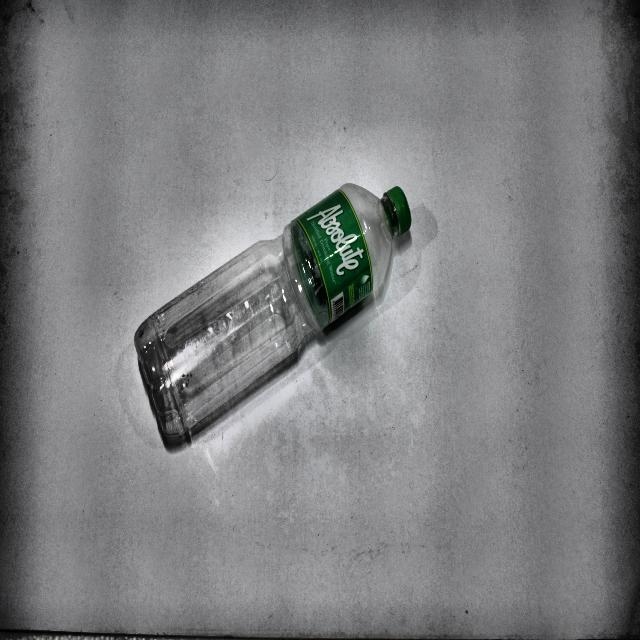Bottles: (129, 165, 421, 458)
